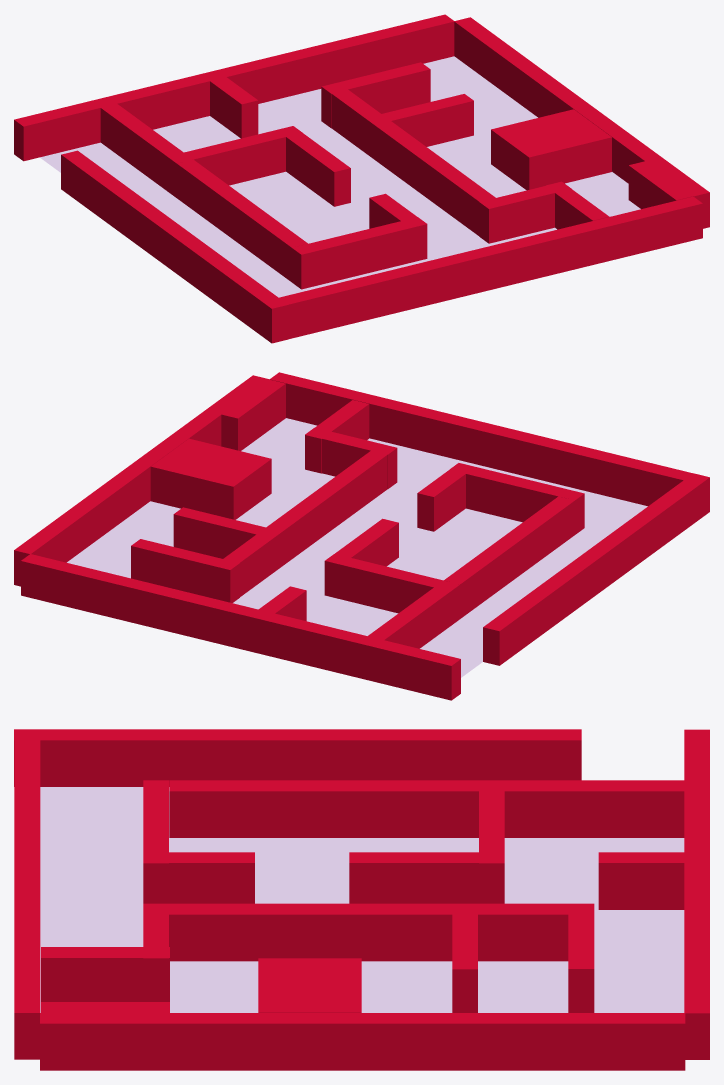
File: field.gltf
3 views of the same model, one above another, from view 1: azimuth 30°, elevation 25°; view 2: azimuth 150°, elevation 25°; view 3: azimuth 270°, elevation 25° (orthographic). The views are drawn at different scales.
Parts seen in each view (by area): view 1: Plane.132, Cube.003, Cube.002, Cube, Cube.001, Cube.007, Cube.010, Cube.011, Cube.012, Cube.013, Cube.017, Cube.008 (+7 smaller); view 2: Plane.132, Cube.002, Cube.003, Cube, Cube.001, Cube.007, Cube.010, Cube.012, Cube.013, Cube.008, Cube.011, Cube.009 (+7 smaller); view 3: Plane.132, Cube.001, Cube, Cube.007, Cube.012, Cube.017, Cube.003, Cube.002, Cube.014, Cube.005, Cube.010, Cube.016 (+7 smaller).
Part boxes in pixels (x1,y1,x2,y2): Plane.132: (40, 56, 640, 297); Cube.003: (279, 196, 702, 339); Cube.002: (14, 14, 454, 161); Cube: (61, 150, 288, 343); Cube.001: (454, 17, 709, 228); Cube.007: (331, 89, 499, 235); Cube.010: (491, 109, 611, 190); Cube.011: (292, 217, 427, 289); Cube.012: (177, 159, 307, 282); Cube.013: (167, 126, 302, 197); Cube.017: (94, 97, 183, 190); Cube.008: (321, 62, 430, 127); Plane.132: (67, 418, 647, 677); Cube.002: (21, 554, 460, 700); Cube.003: (269, 372, 692, 506); Cube: (483, 473, 709, 665); Cube.001: (14, 375, 269, 586); Cube.007: (223, 449, 390, 596); Cube.010: (150, 438, 271, 519); Cube.012: (444, 496, 574, 618); Cube.013: (324, 554, 460, 625); Cube.008: (131, 539, 239, 602); Cube.011: (449, 463, 584, 534); Cube.009: (173, 507, 269, 558); Plane.132: (40, 787, 684, 1012); Cube.001: (40, 1013, 685, 1070); Cube: (14, 729, 581, 786); Cube.007: (159, 903, 569, 961); Cube.012: (169, 780, 478, 837); Cube.017: (503, 780, 708, 837); Cube.003: (14, 740, 40, 1059); Cube.002: (684, 729, 709, 1059); Cube.014: (349, 852, 503, 903); Cube.005: (41, 947, 169, 1001); Cube.010: (258, 958, 361, 1012); Cube.016: (598, 852, 701, 909).
Size of the model in its own units: 27 by 2 by 26.97.
